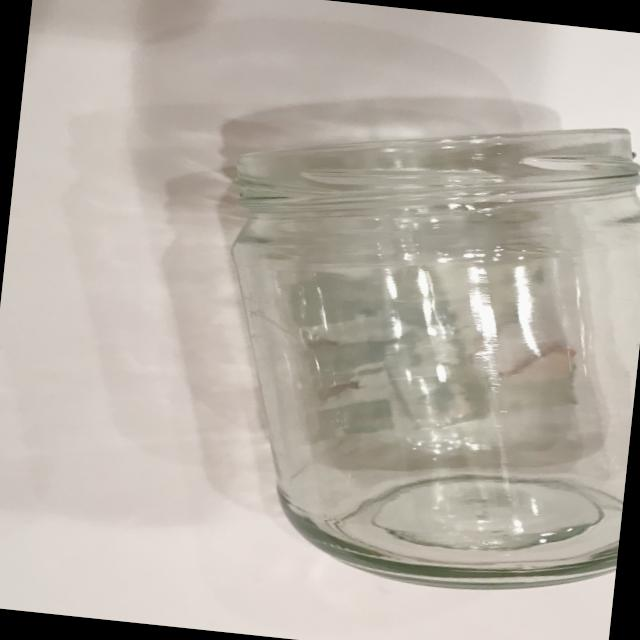Glass: (168, 67, 640, 611)
